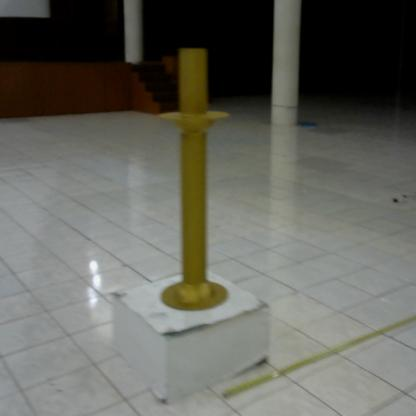pole: (155, 42, 233, 315)
